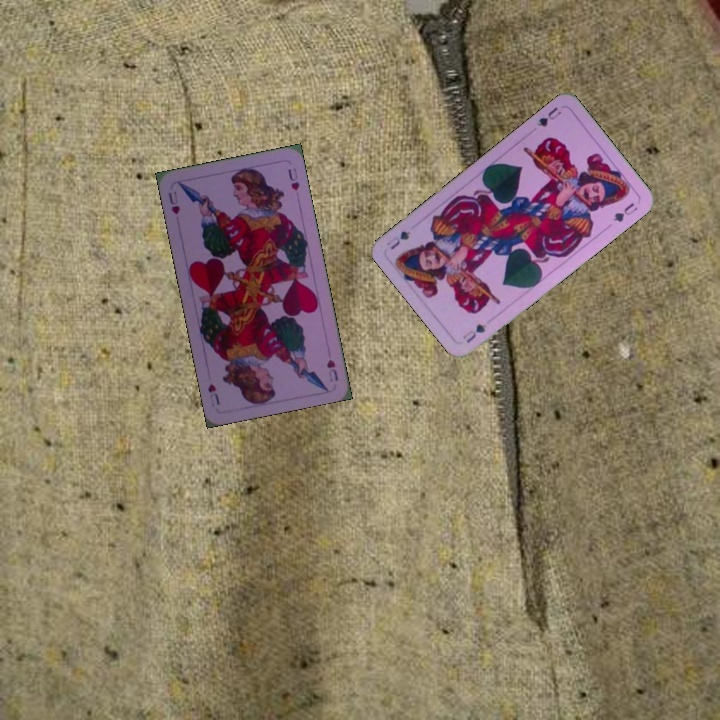GU: (533, 102, 564, 130), (458, 320, 489, 346)
HU: (164, 187, 183, 217), (322, 355, 341, 384)
